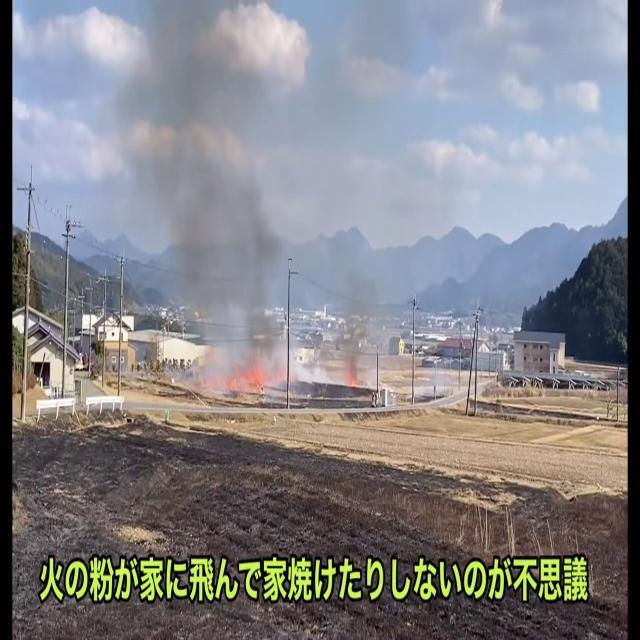Smoke: (143, 14, 289, 386)
